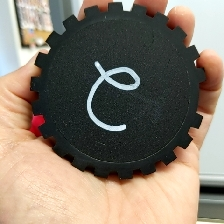gear: (28, 2, 207, 180)
missing: (189, 66, 209, 130)
